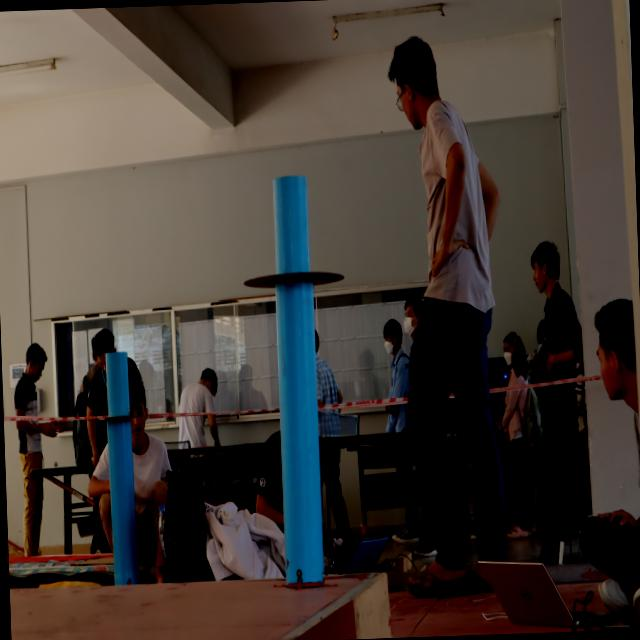pole: (242, 170, 352, 362), (82, 344, 146, 466)
